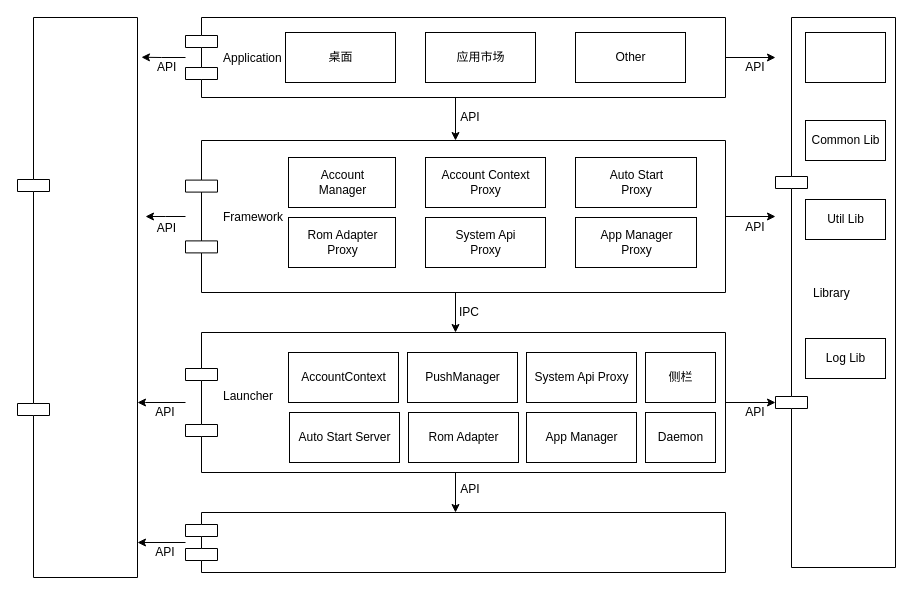
Some shapes in this 913 by 595 pixel diagram are drawn without their labels. The centre of each missing label's shape, as x and y in pixels:
"Http Lib" belongs at point (845, 57).
"Rom" belongs at point (455, 542).
"System SDK" belongs at point (77, 297).
